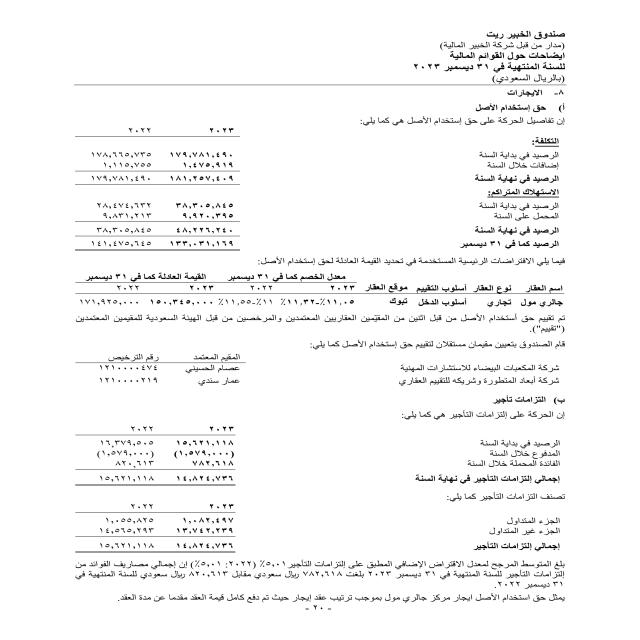notes: (444, 51, 566, 60)
table: (50, 122, 250, 258), (54, 264, 567, 313), (62, 420, 241, 488), (65, 497, 237, 557), (53, 348, 249, 391)
